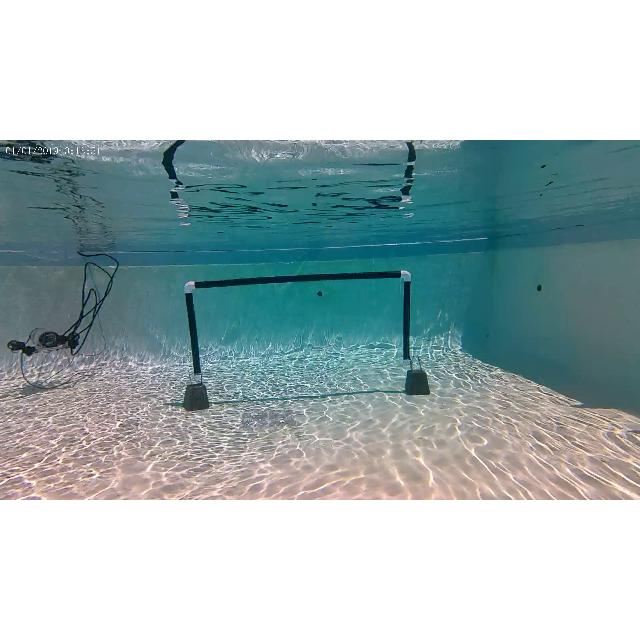prequal gate: (184, 269, 414, 379)
prequal gate leg l: (181, 280, 211, 410)
prequal gate leg r: (394, 268, 430, 392)
